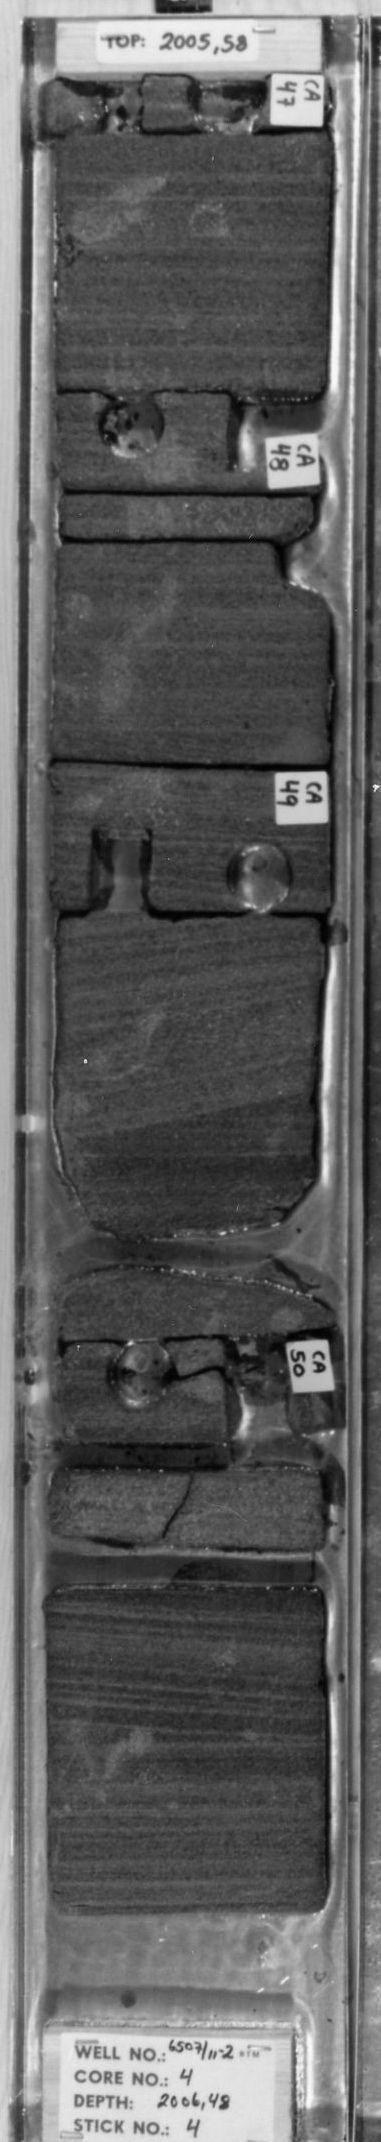hplug: (57, 1522, 317, 1604), (55, 1434, 330, 1478), (102, 1329, 188, 1419), (220, 835, 303, 918), (90, 387, 178, 464), (179, 72, 276, 139), (273, 516, 330, 611)
vplug: (214, 374, 324, 485), (210, 1326, 313, 1438), (74, 805, 158, 917), (83, 79, 154, 138)
